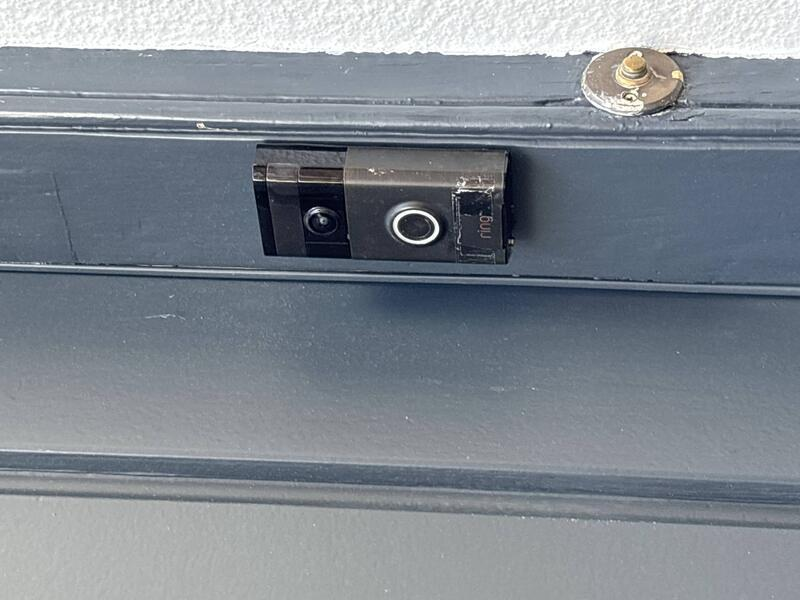doorbell: (331, 245, 465, 517)
